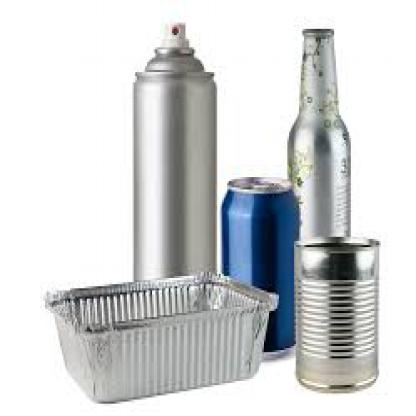METAL: (42, 270, 277, 399), (131, 47, 216, 280), (221, 175, 299, 358), (287, 25, 351, 241), (292, 237, 376, 391)
